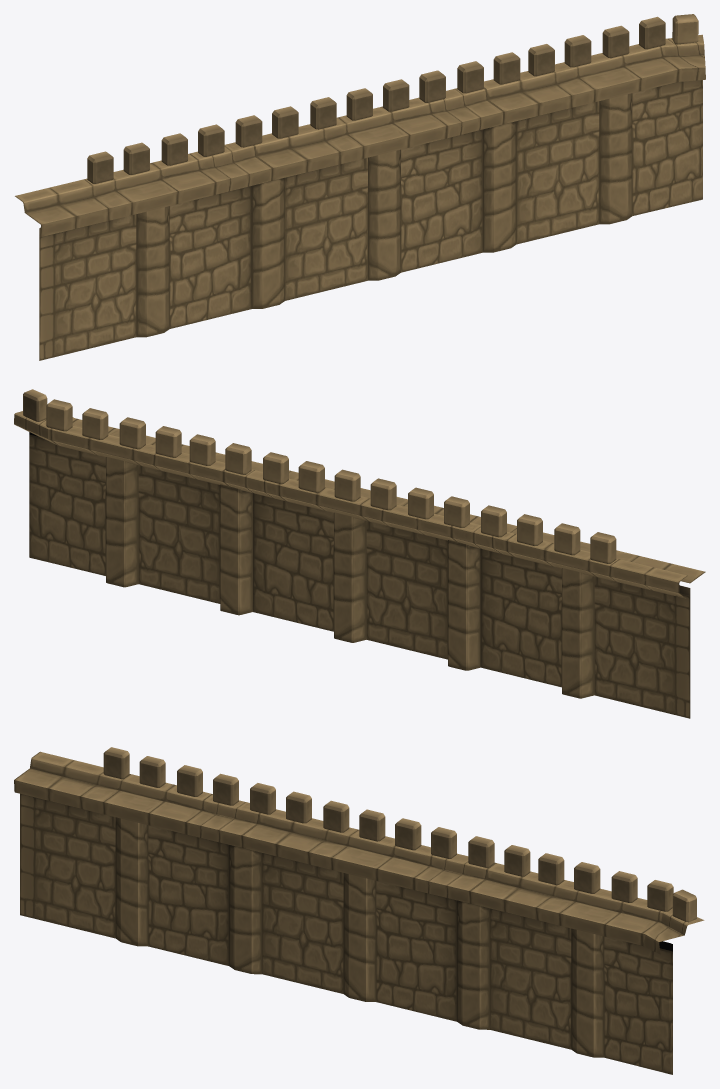
The model's file is wallBack_model.glb.
3 views of the same model, one above another, from view 1: azimuth 30°, elevation 25°; view 2: azimuth 150°, elevation 25°; view 3: azimuth 330°, elevation 25° (orthographic).
Visible parts, largest first — view 1: wallBack_t2; view 2: wallBack_t2; view 3: wallBack_t2.
Boxes of the visible parts, left/top/right/bottom form: wallBack_t2: left=15, top=14, right=705, bottom=360; wallBack_t2: left=14, top=389, right=705, bottom=718; wallBack_t2: left=14, top=747, right=704, bottom=1074.
Size of what is drawn, in the model's own units: 31.31 by 7.56 by 2.53.
1 material, 1 textured.
